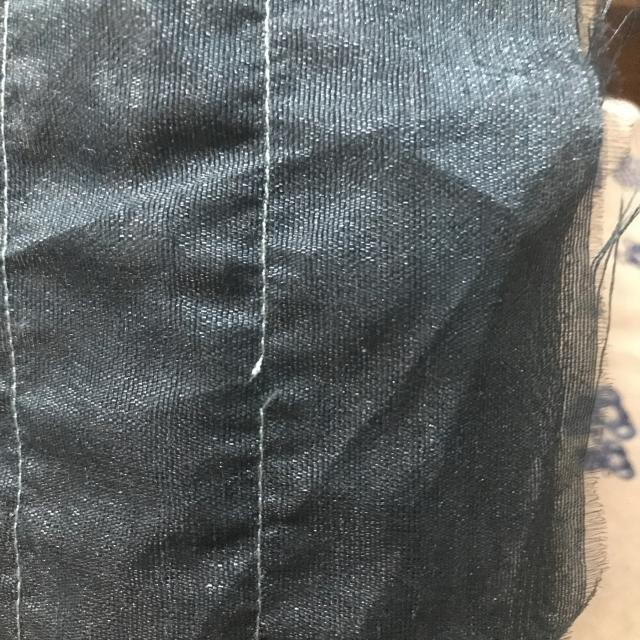broken: (238, 335, 314, 427)
good: (247, 457, 285, 584), (249, 166, 283, 289)
